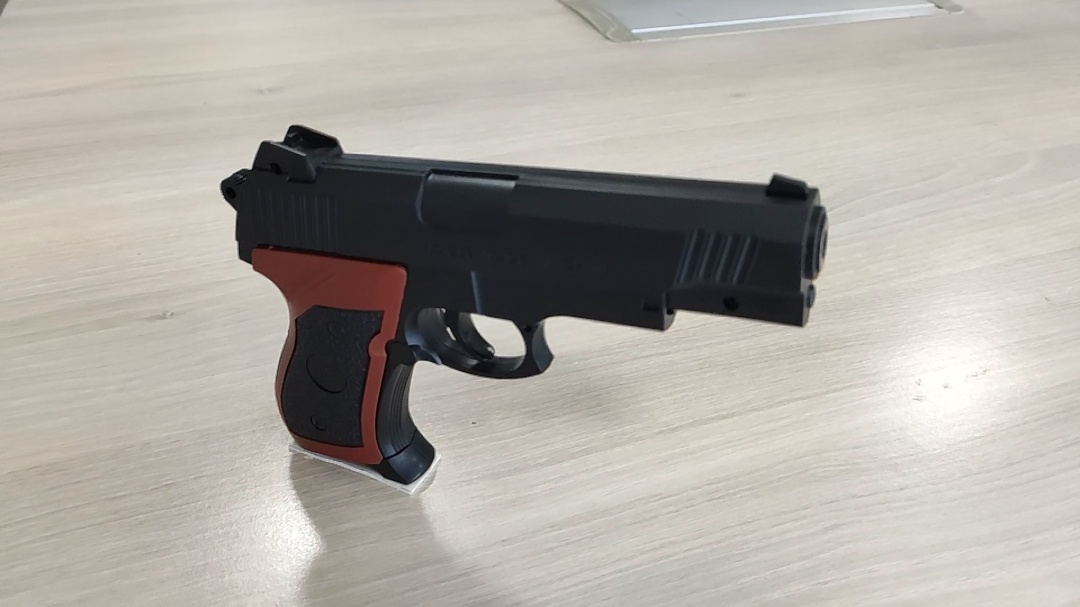gun: (218, 123, 831, 488)
